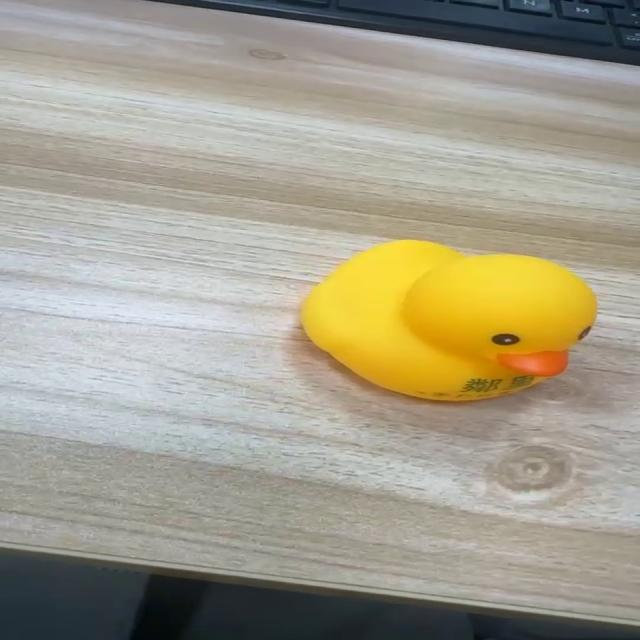yellow_duck: (296, 237, 598, 402)
